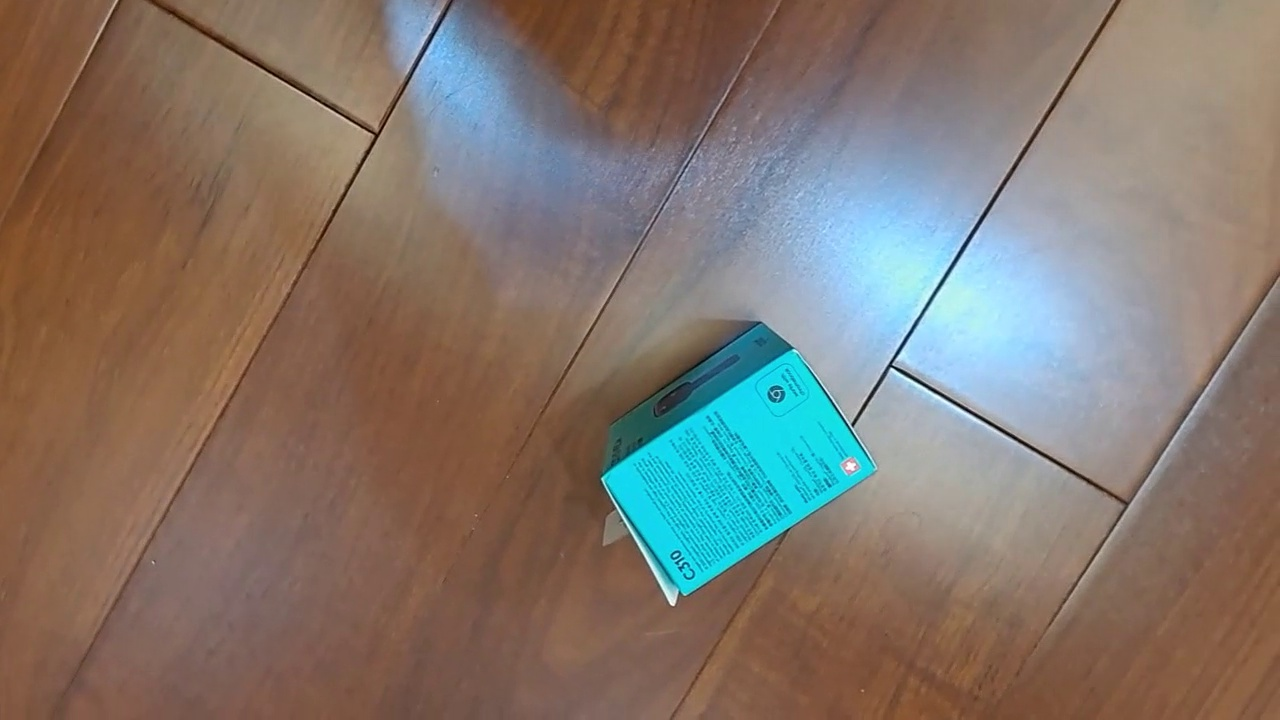webcam: (599, 321, 879, 607)
